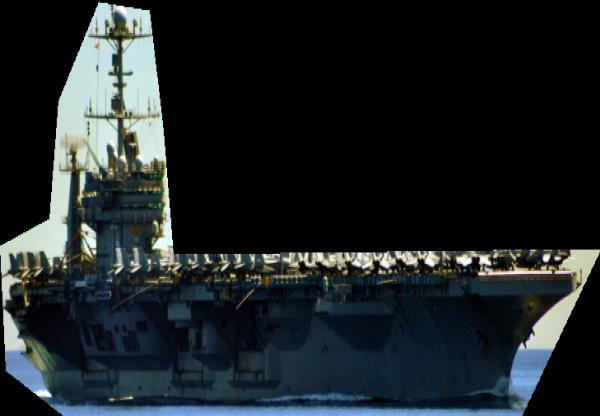Aircraft Carrier: (0, 1, 600, 416)
